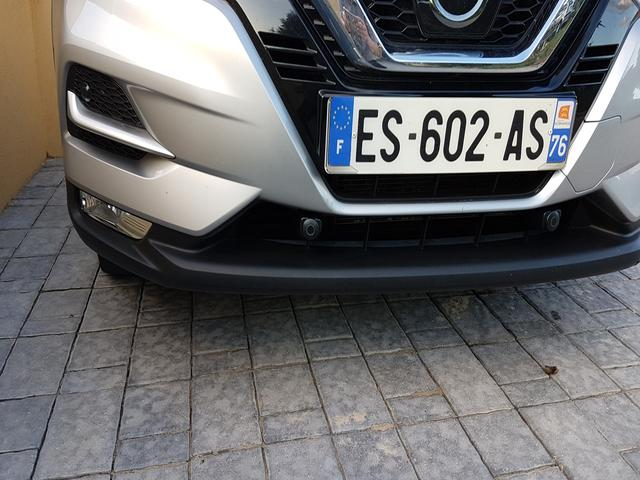Quashquai: (284, 55, 640, 158)
